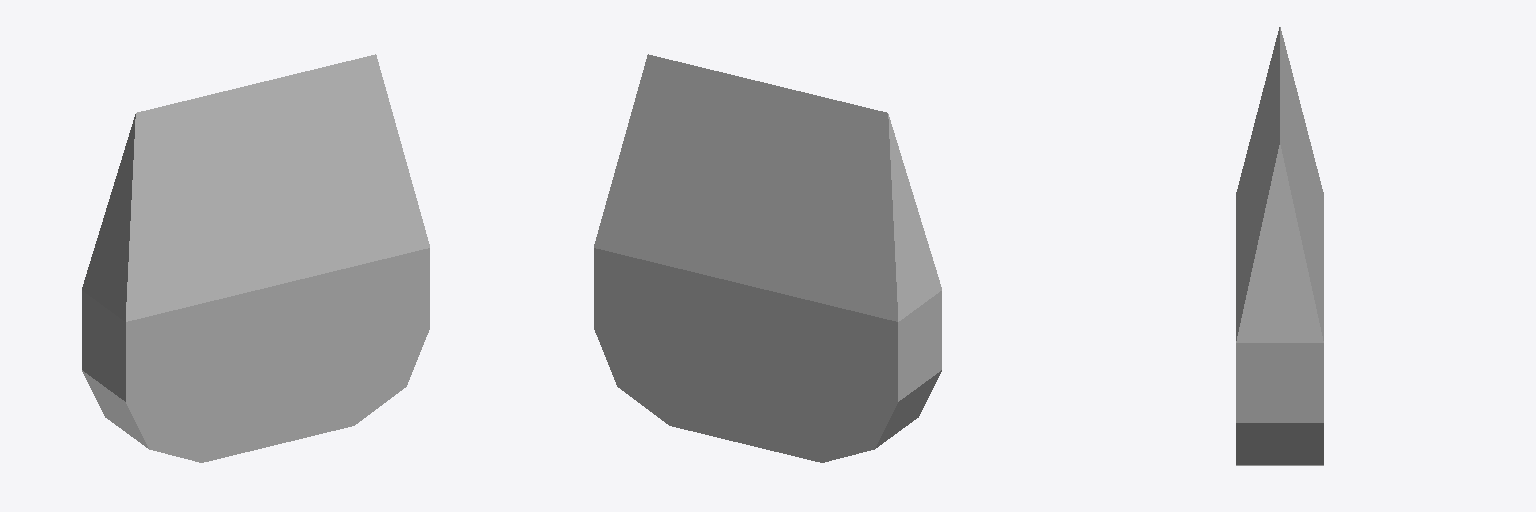
The model's file is dewitos.obj.
3 views of the same model, side by side, from view 1: azimuth 30°, elevation 25°; view 2: azimuth 150°, elevation 25°; view 3: azimuth 270°, elevation 25° (orthographic).
Visible parts, largest first — view 1: pCube1; view 2: pCube1; view 3: pCube1.
Part boxes in pixels (bbox=[...]): pCube1: bbox=[82, 54, 429, 462]; pCube1: bbox=[594, 54, 941, 462]; pCube1: bbox=[1236, 27, 1323, 465].
Size of the model in its own units: 1 by 1.08 by 0.25.